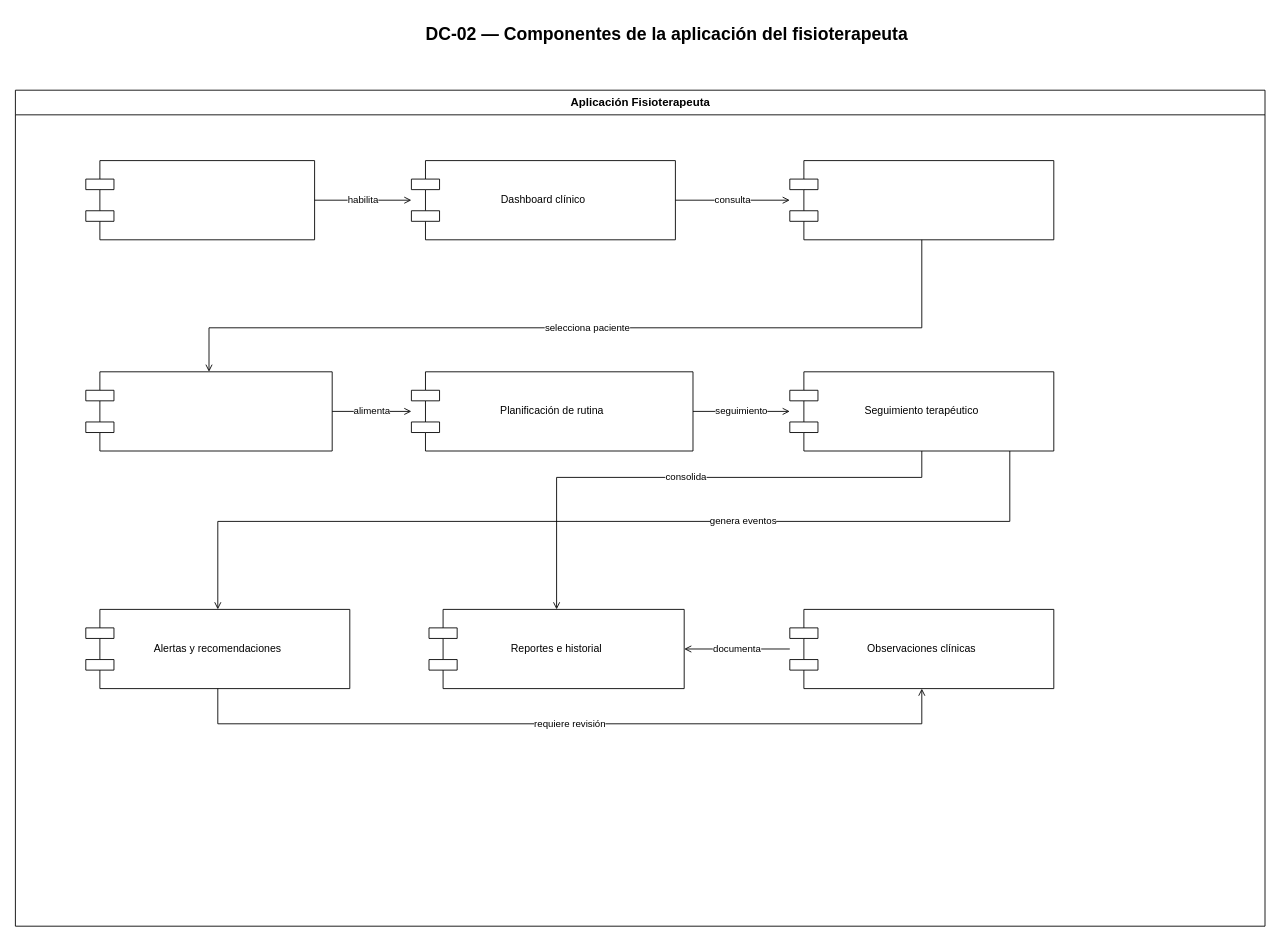
Image size: 1280x942. Some labels were removed from this diagram. Each missing label, with the centre of its shape:
"Autenticación" goes at [200,200].
"Evaluación inicial" goes at [208,411].
"Gestión de pacientes" goes at [921,200].
